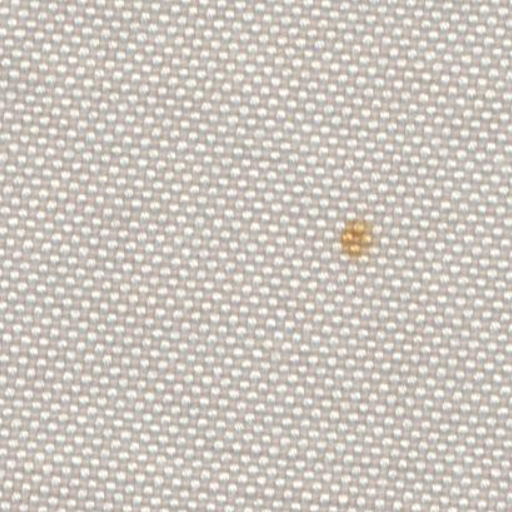WuZi: (324, 195, 386, 274)
